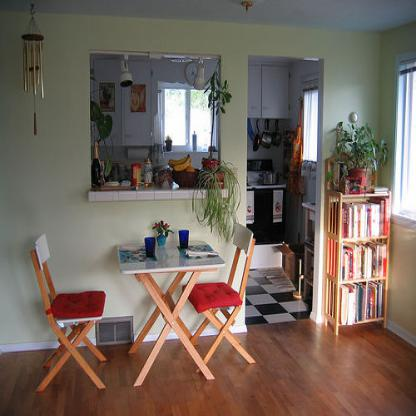bottle: (92, 141, 103, 187), (144, 158, 154, 185)
chair: (30, 233, 108, 393), (181, 220, 256, 372)
diningtable: (117, 239, 226, 387)
pottedplant: (325, 120, 391, 195), (191, 163, 242, 243), (202, 65, 234, 170)
